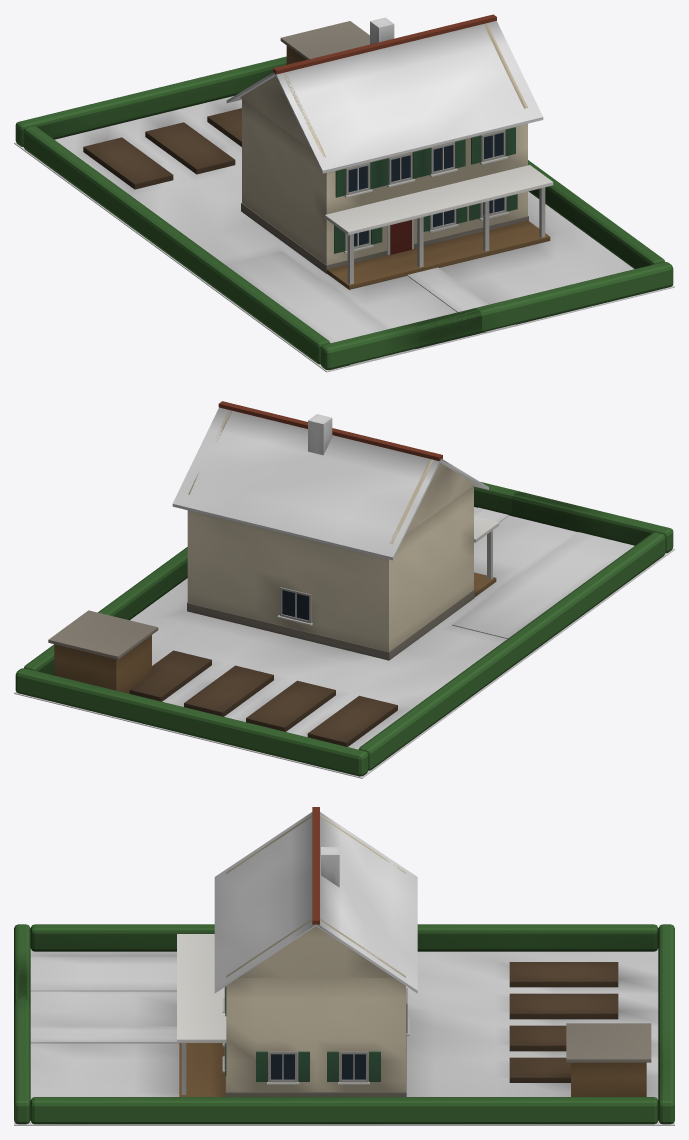
Rendered from dos-aguas-D4Yi2XM9.glb.
3 renders of one model, top to bottom at view 1: azimuth 30°, elevation 25°; view 2: azimuth 150°, elevation 25°; view 3: azimuth 270°, elevation 25°, orthographic. The views are drawn at different scales.
Parts seen in each view (by area): view 1: pasto, techo, pieza.008, pieza.003, pieza.002, pieza.005, pieza.001, pieza.014, pieza.009, pieza, pieza.004, pieza.017 (+9 smaller); view 2: pieza.008, pasto, techo, pieza.002, pieza.003, pieza.005, pieza, pieza.020, pieza.021, pieza.004, pieza.007, pieza.016 (+8 smaller); view 3: pasto, techo, pieza.004, pieza.008, pieza.003, pieza.005, pieza.014, mojinete.001, pieza.021, pieza.002, pieza.017, pieza.016 (+12 smaller).
Boxes of the visible parts, left/top/right/bottom form: pasto: left=14, top=96, right=674, bottom=372; techo: left=226, top=21, right=543, bottom=173; pieza.008: left=242, top=99, right=527, bottom=264; pieza.003: left=23, top=126, right=329, bottom=364; pieza.002: left=15, top=56, right=286, bottom=146; pieza.005: left=225, top=251, right=415, bottom=365; pieza.001: left=414, top=262, right=673, bottom=347; pieza.014: left=325, top=165, right=553, bottom=235; pieza.009: left=327, top=220, right=550, bottom=289; pieza: left=320, top=308, right=481, bottom=370; pieza.004: left=528, top=160, right=664, bottom=268; pieza.017: left=145, top=122, right=235, bottom=174; pieza.008: left=187, top=485, right=473, bottom=651; pasto: left=14, top=507, right=674, bottom=778; techo: left=172, top=407, right=488, bottom=560; pieza.002: left=15, top=668, right=368, bottom=776; pieza.003: left=358, top=532, right=665, bottom=770; pieza.005: left=452, top=532, right=634, bottom=638; pieza: left=512, top=491, right=673, bottom=553; pieza.020: left=54, top=635, right=151, bottom=693; pieza.021: left=48, top=610, right=158, bottom=659; pieza.004: left=24, top=547, right=187, bottom=675; pieza.007: left=187, top=589, right=474, bottom=660; pieza.016: left=307, top=695, right=397, bottom=746; pasto: left=14, top=948, right=674, bottom=1125; techo: left=214, top=812, right=417, bottom=993; pieza.004: left=30, top=1097, right=658, bottom=1124; pieza.008: left=226, top=978, right=405, bottom=1092; pieza.003: left=30, top=924, right=658, bottom=951; pieza.005: left=30, top=956, right=176, bottom=991; pieza.014: left=177, top=934, right=226, bottom=1042; mojinete.001: left=226, top=919, right=405, bottom=977; pieza.021: left=566, top=1023, right=651, bottom=1062; pieza.002: left=658, top=924, right=674, bottom=1124; pieza.017: left=509, top=993, right=618, bottom=1019; pieza.016: left=509, top=962, right=618, bottom=987.
Bounding box in the file's own units: 18 × 9.4 × 28.
